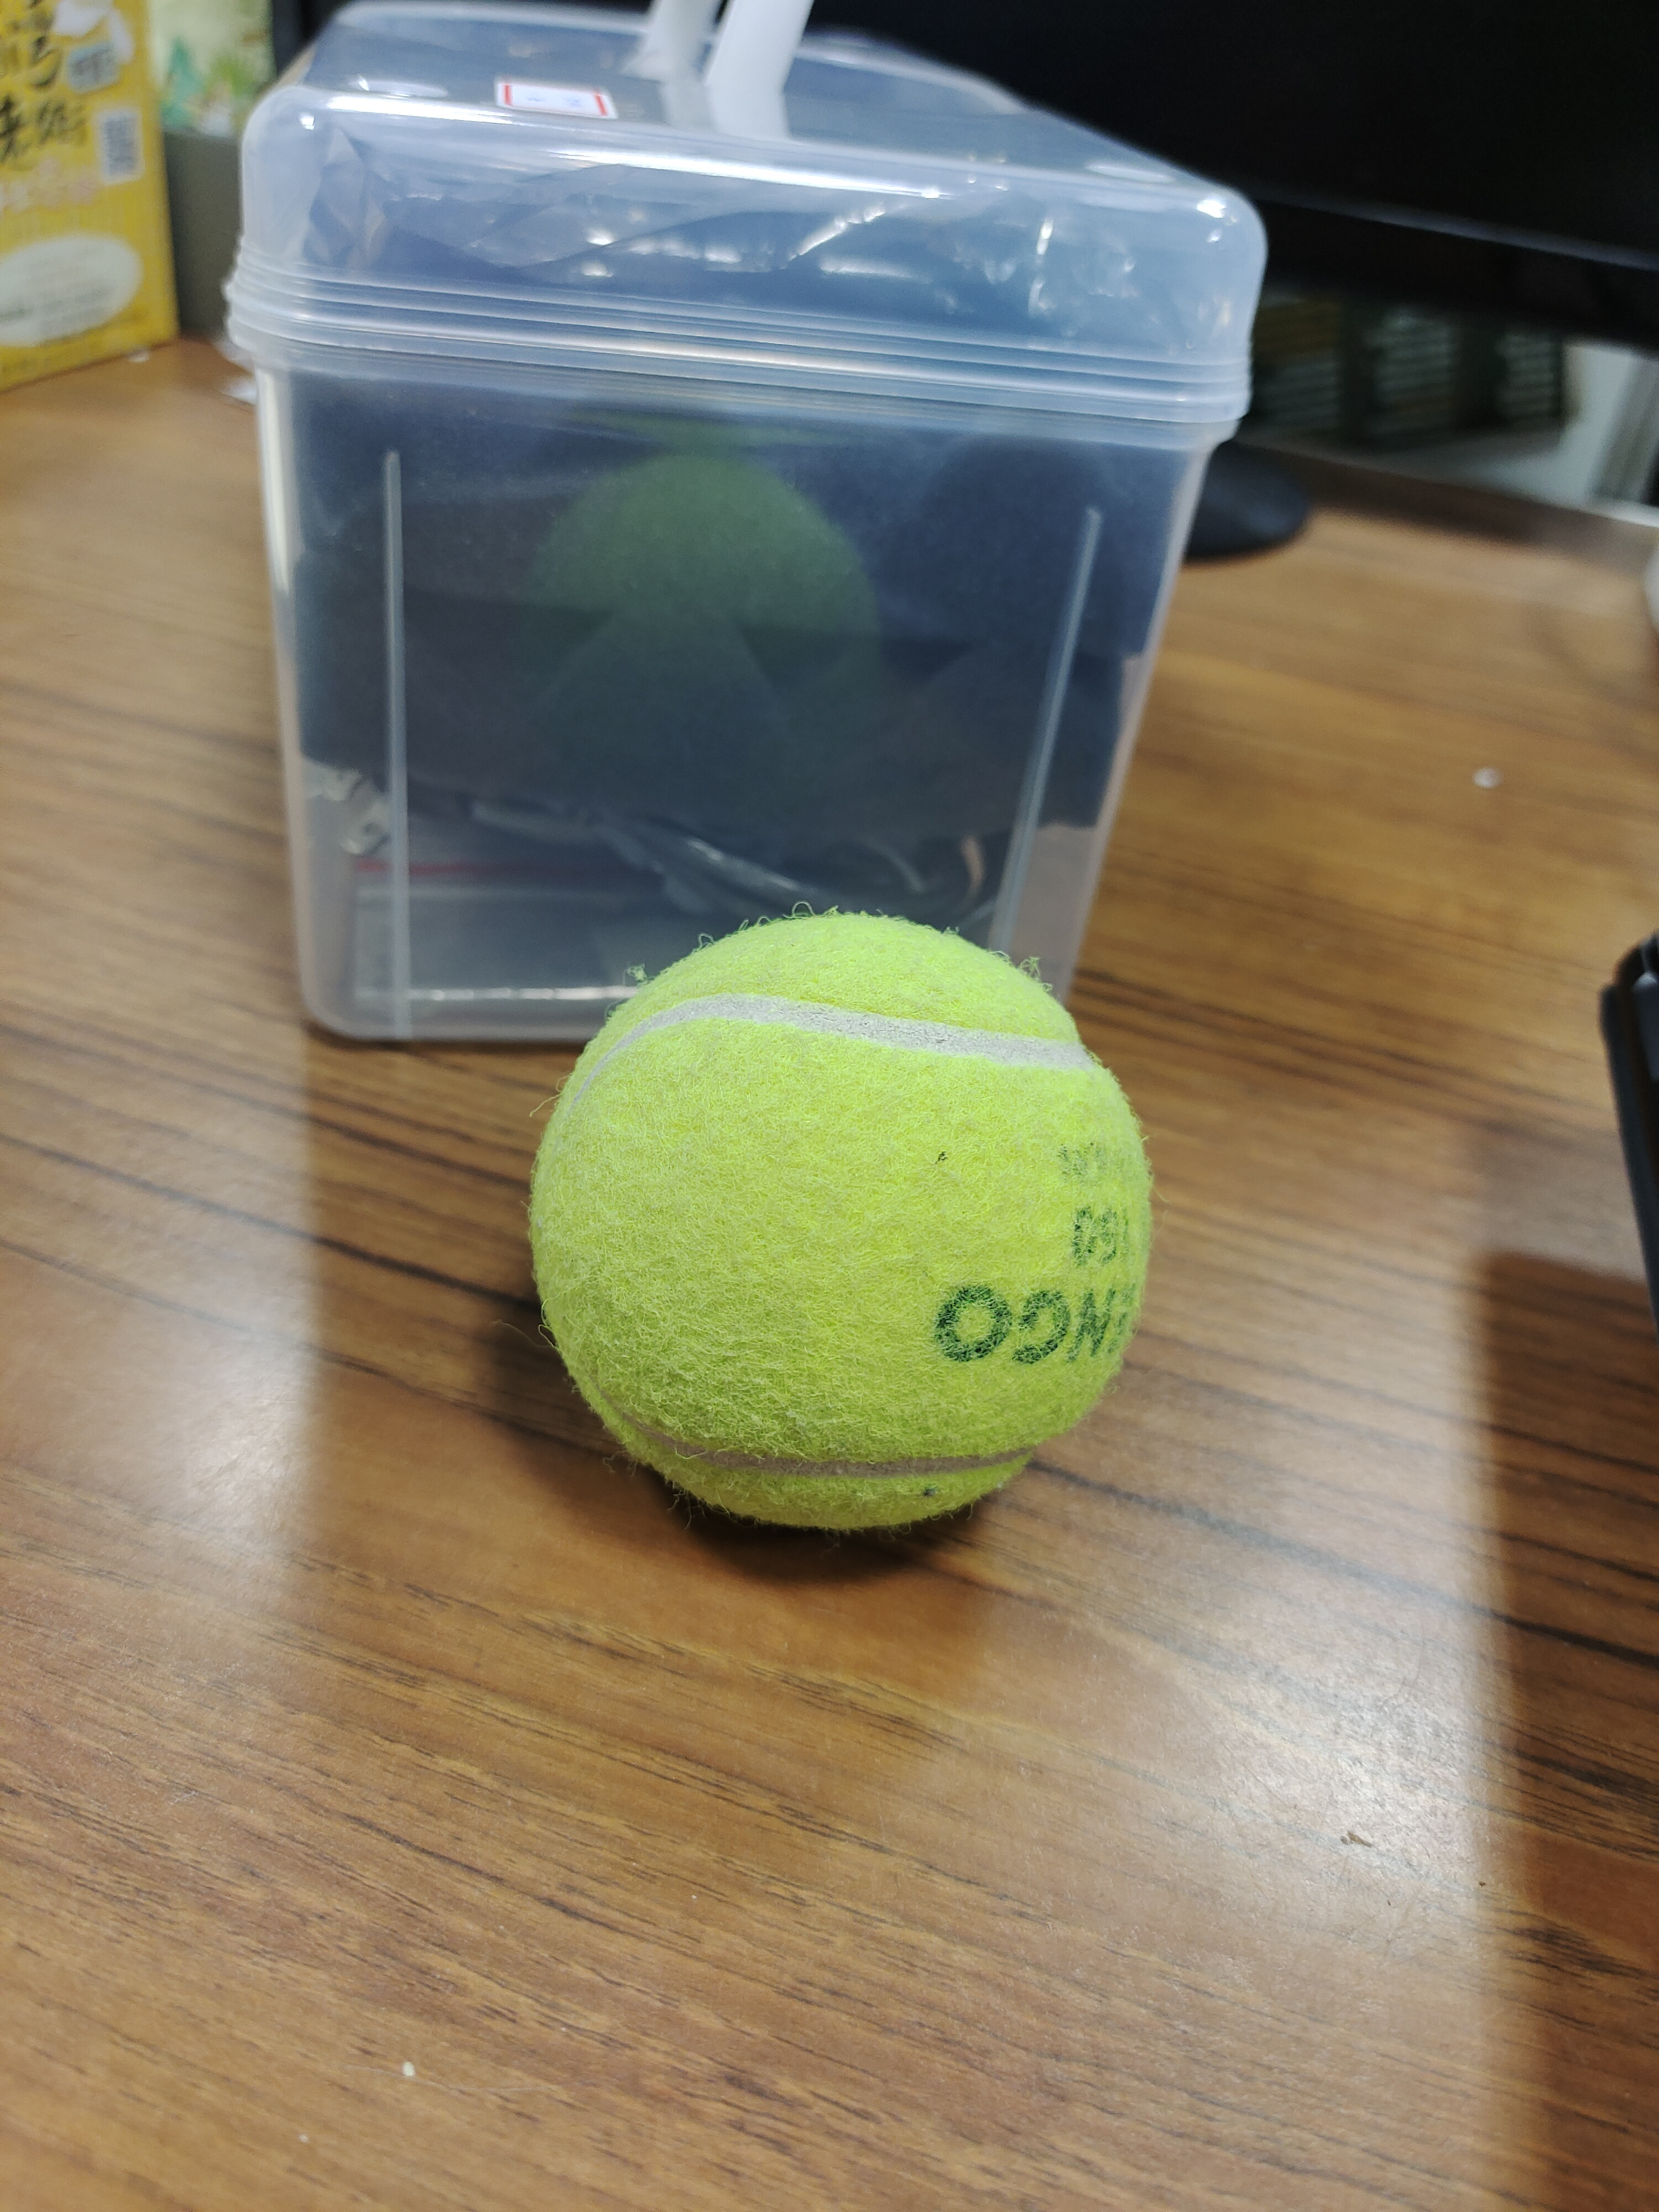tennis: (505, 892, 1171, 1580)
